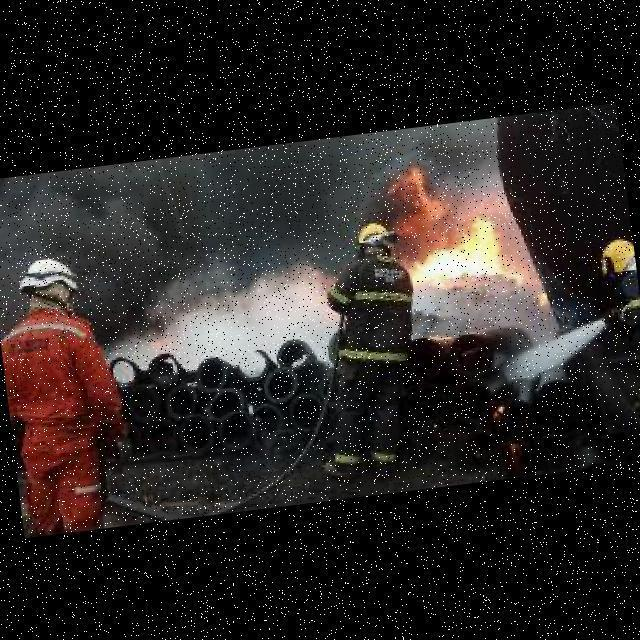fire: (380, 154, 527, 297), (534, 288, 550, 304)
